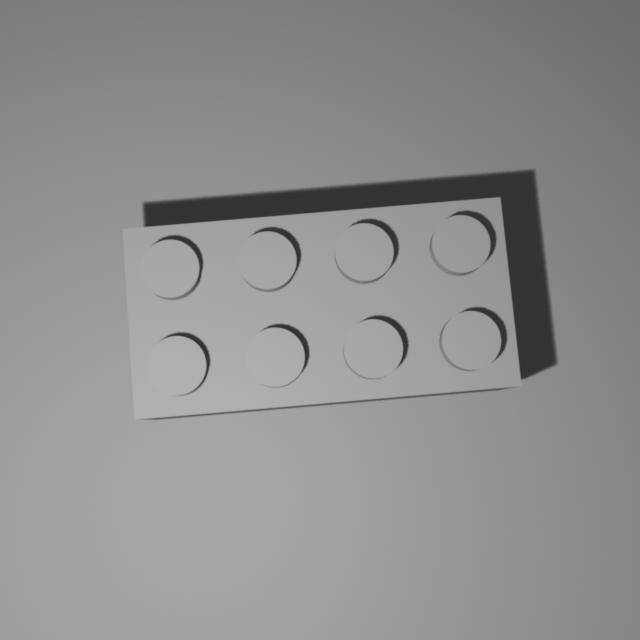lego_2x4: (118, 192, 526, 420)
